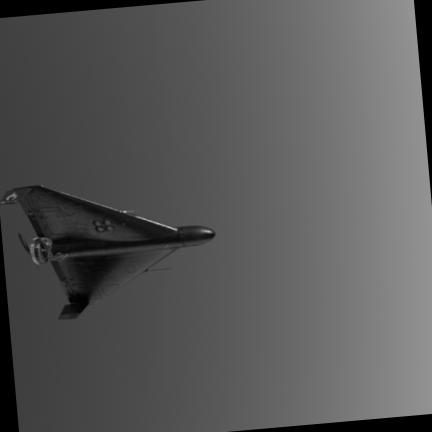Shahed: (0, 186, 214, 319)
